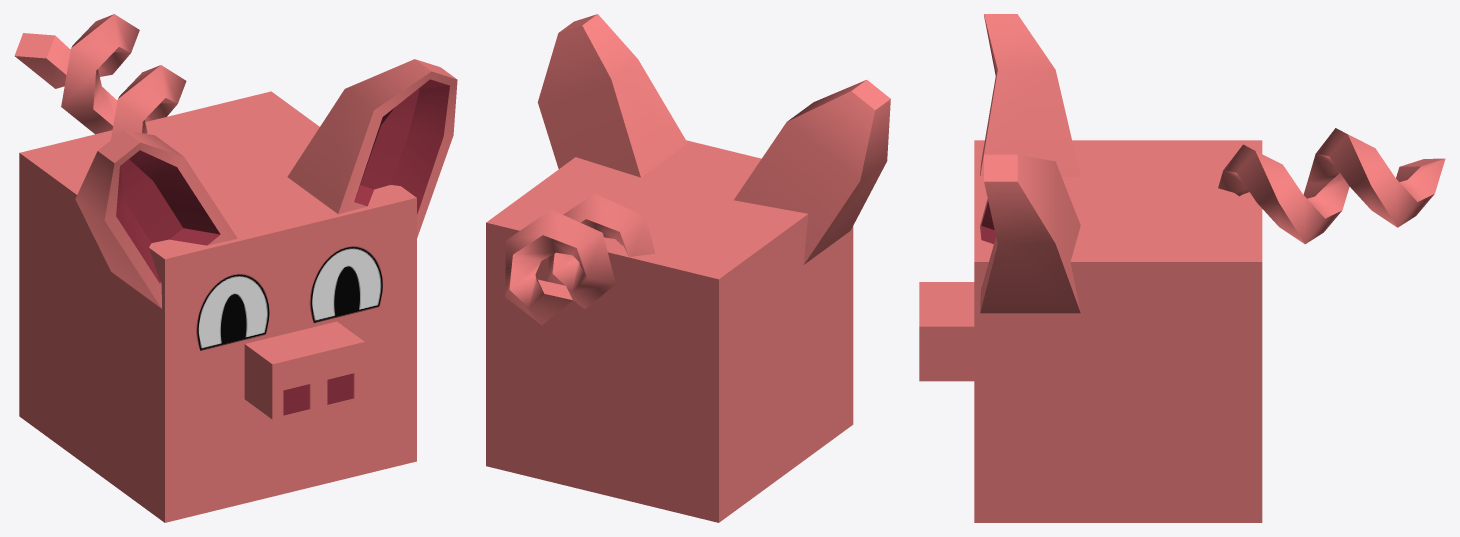
The model's file is pig.fbx.
3 renders of one model, left to right at view 1: azimuth 30°, elevation 25°; view 2: azimuth 150°, elevation 25°; view 3: azimuth 270°, elevation 25°, orthographic. The views are drawn at different scales.
Visible parts, largest first — view 1: Pig; view 2: Pig; view 3: Pig.
Part boxes in pixels (box(x1,y1,x2,y2)): Pig: box(14, 14, 457, 522); Pig: box(486, 14, 890, 522); Pig: box(919, 14, 1445, 522).
Size of the model in its own units: 139 by 145 by 183.
